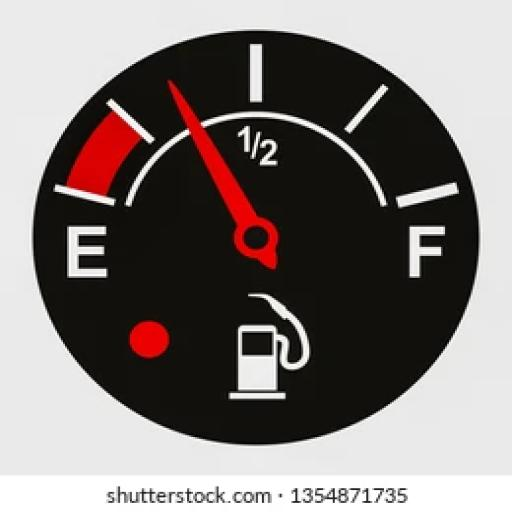empty: (68, 227, 104, 274)
fuel_icon: (224, 292, 312, 404)
full: (409, 227, 443, 278)
guage_area: (32, 27, 483, 451)
needle_center: (224, 207, 284, 269)
needle_tip: (167, 79, 190, 116)
